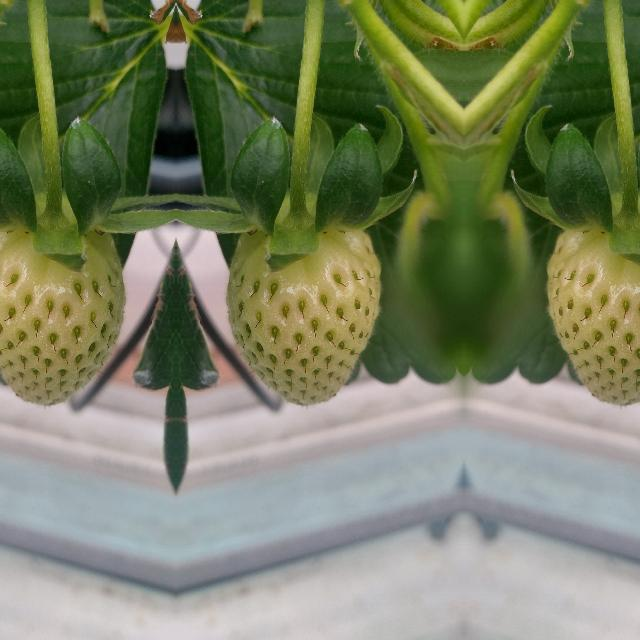Health_25: (224, 230, 380, 406), (0, 230, 125, 405), (546, 230, 640, 405)
